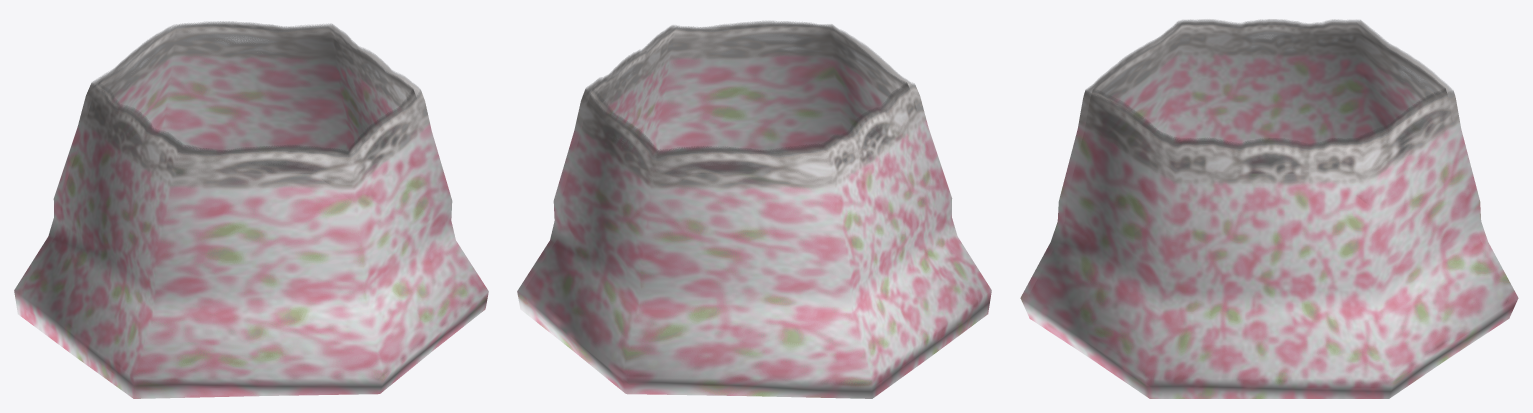
File: Lace_Dress.glb
The picture shows the model from 3 angles, left to right: view 1: azimuth 30°, elevation 25°; view 2: azimuth 150°, elevation 25°; view 3: azimuth 270°, elevation 25°; orthographic projection. The views are drawn at different scales.
Visible parts, largest first — view 1: Lace Dress; view 2: Lace Dress; view 3: Lace Dress.
Part boxes in pixels (box(x1,y1,x2,y2)): Lace Dress: box(14, 21, 488, 398); Lace Dress: box(517, 21, 991, 398); Lace Dress: box(1020, 19, 1518, 398).
Size of the model in its own units: 1.8 by 1.13 by 2.1.
1 material, 1 textured.
